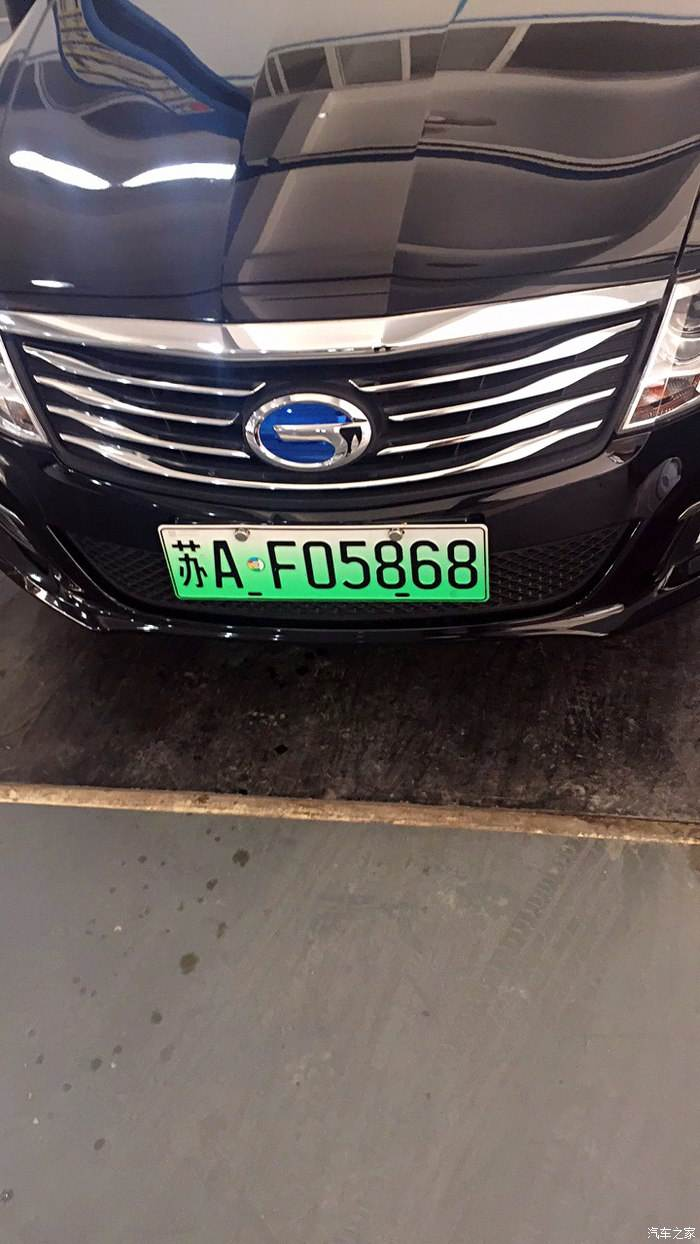plate: (145, 492, 508, 636)
